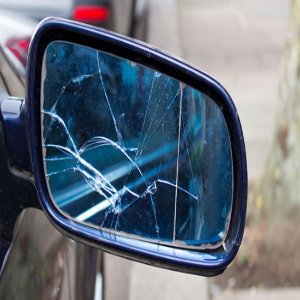bumper: (19, 188, 175, 275)
